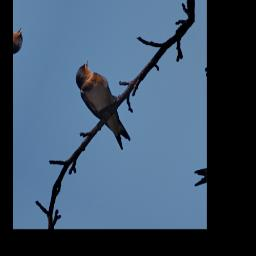Swallow: (61, 58, 148, 153)
